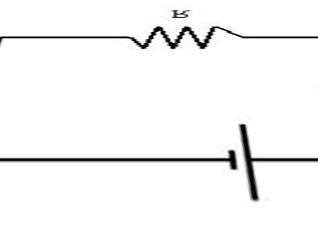resistor: (123, 17, 252, 68)
